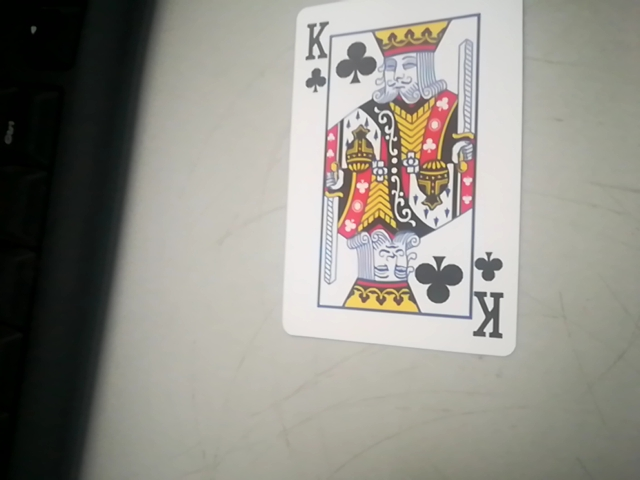mh k: (278, 9, 526, 360)
